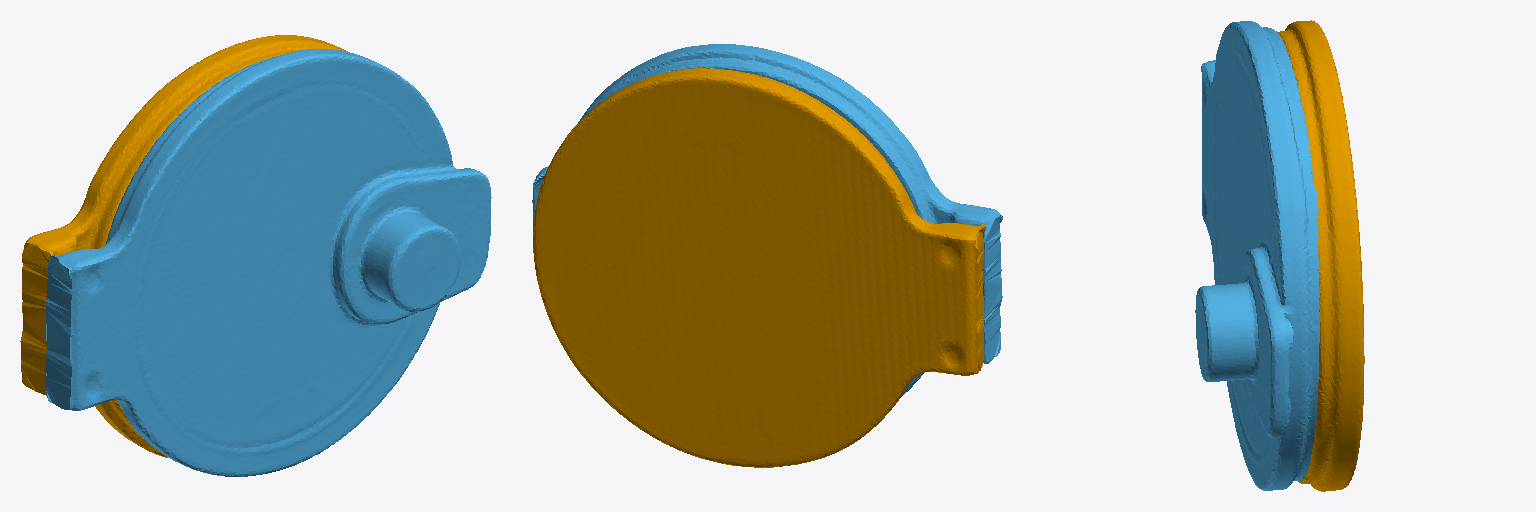
The robot description file, URDF, robot "box":
<?xml version="1.0" ?>
<!-- This file was generated from obj_file/4x4x4_real.stl. -->
<robot name="box">



  <link name="bottom">
    <visual>
      <origin xyz="0 0 0"/>
      <geometry>
        <mesh filename="./object_vtemplates/waffleiron/bottom.obj" scale="0.0015 0.0015 0.0015"/>
      </geometry>
    </visual>
    <collision>
      <origin xyz="0 0 0"/>
      <geometry>
        <mesh filename="./object_vtemplates/waffleiron/bottom_cd.obj" scale="0.0015 0.0015 0.0015"/>
      </geometry>
    </collision>
    <inertial>
      <density value="567.0"/>
    </inertial>
  </link>

  <link name="top">
    <visual>
      <origin xyz="0 0 0"/>
      <geometry>
        <mesh filename="./object_vtemplates/waffleiron/top.obj" scale="0.0015 0.0015 0.0015"/>
      </geometry>
    </visual>
    <collision>
      <origin xyz="0 0 0"/>
      <geometry>
        <mesh filename="./object_vtemplates/waffleiron/top_cd.obj" scale="0.0015 0.0015 0.0015"/>
      </geometry>
    </collision>
    <inertial>
      <density value="567.0"/>
    </inertial>
  </link>


  <joint name="joint1" type="revolute">
    <parent link="bottom"/>
    <child link="top"/>
    <origin rpy="0 0 0" xyz="0 0 0.0"/>
    <axis xyz="0 0 -1"/>
    <limit lower="0" upper="3.14"/>
    <!-- <limit effort="50.0" lower="0.000" upper="0.001" velocity="3.14"/>
    <dynamics damping="1.0" friction="1.0"/> -->
  </joint>

</robot>

--- Facts derived from the render (not from the file) ---
3 views of the same robot in one strip: view 1: azimuth 30°, elevation 25°; view 2: azimuth 150°, elevation 25°; view 3: azimuth 270°, elevation 25° (orthographic).
Model box with 2 links and 1 joints (1 revolute), rooted at bottom, posed every joint at zero.
Links seen in each view (by area): view 1: top, bottom; view 2: bottom, top; view 3: top, bottom.
Boxes of the visible links, x1=… form: top: x1=46, y1=49, x2=491, y2=476; bottom: x1=20, y1=35, x2=347, y2=457; bottom: x1=533, y1=68, x2=984, y2=467; top: x1=532, y1=44, x2=1002, y2=397; top: x1=1195, y1=21, x2=1319, y2=490; bottom: x1=1277, y1=20, x2=1364, y2=491.
Bounding box of the posed robot: 0.3072 × 0.0916 × 0.258 m (x, y, z).
2 mesh visuals loaded from 2 distinct referenced files (2 OBJ).
